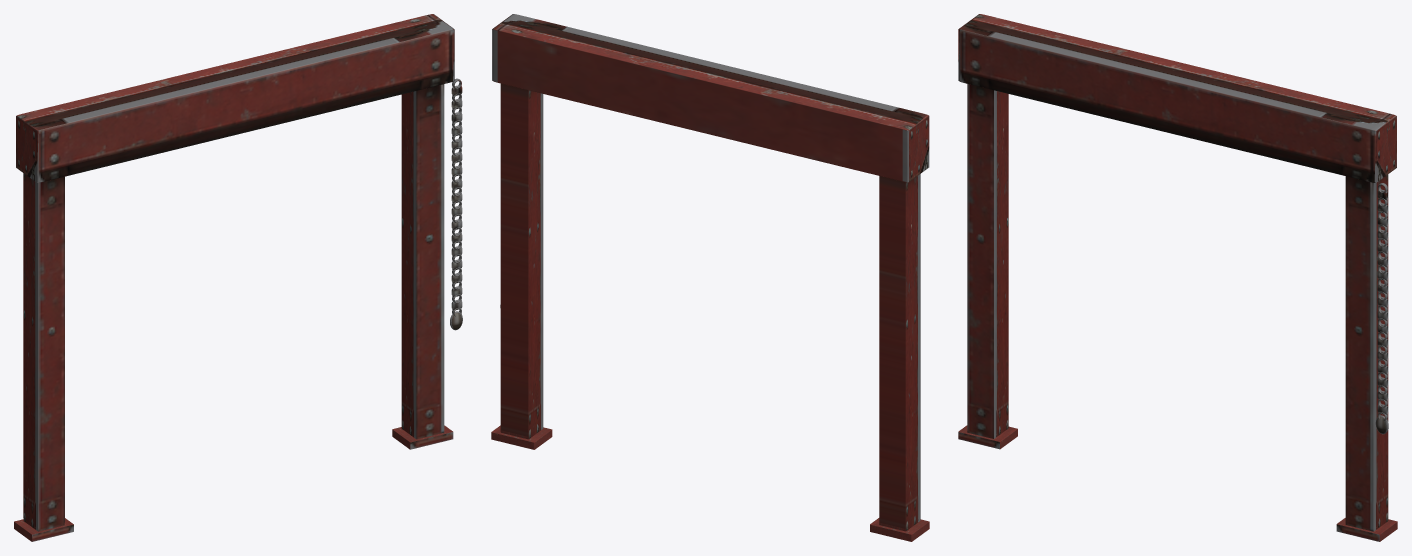
Rendered from shutter-open.glb.
3 views of the same model, side by side, from view 1: azimuth 30°, elevation 25°; view 2: azimuth 150°, elevation 25°; view 3: azimuth 330°, elevation 25° (orthographic).
Parts seen in each view (by area): view 1: hood, fixed-guide (×2), anchor-foot (×2); view 2: hood, fixed-guide (×2), anchor-foot (×2); view 3: hood, fixed-guide (×2), anchor-foot (×2).
Boxes of the visible parts, x1=… form: hood: x1=16, y1=14, x2=454, y2=182; fixed-guide (×2): x1=23, y1=84, x2=444, y2=531; anchor-foot (×2): x1=14, y1=425, x2=453, y2=541; hood: x1=492, y1=14, x2=929, y2=182; fixed-guide (×2): x1=500, y1=83, x2=920, y2=531; anchor-foot (×2): x1=491, y1=425, x2=929, y2=541; hood: x1=958, y1=14, x2=1396, y2=182; fixed-guide (×2): x1=967, y1=84, x2=1388, y2=531; anchor-foot (×2): x1=958, y1=425, x2=1397, y2=541.
Size of the model in its own units: 5.86 by 5.37 by 0.5.
Materials: 2 (2 with a texture image).
